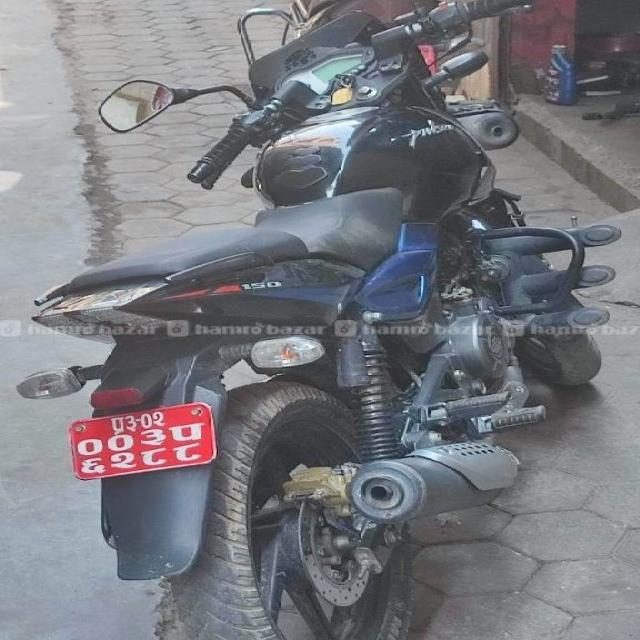License-plate: (58, 403, 226, 480)
